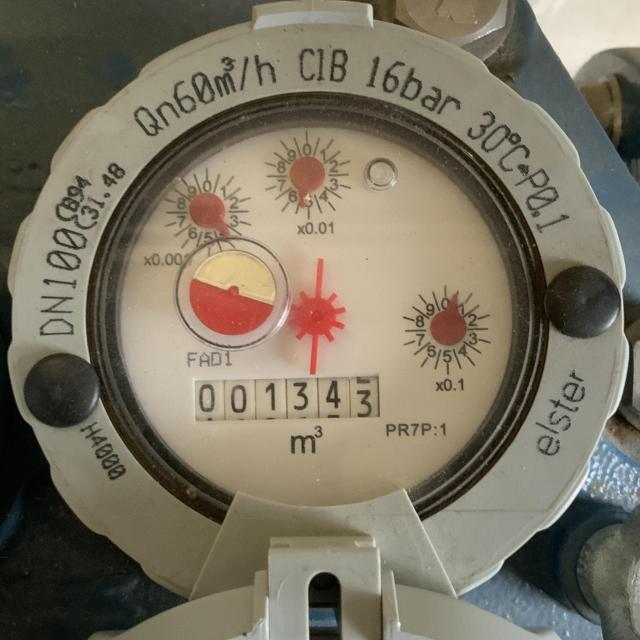gaz_meter: (110, 128, 516, 512)
indication: (193, 375, 380, 421)
